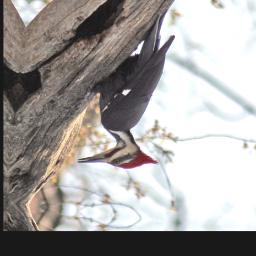Woodpecker: (74, 3, 180, 173)
